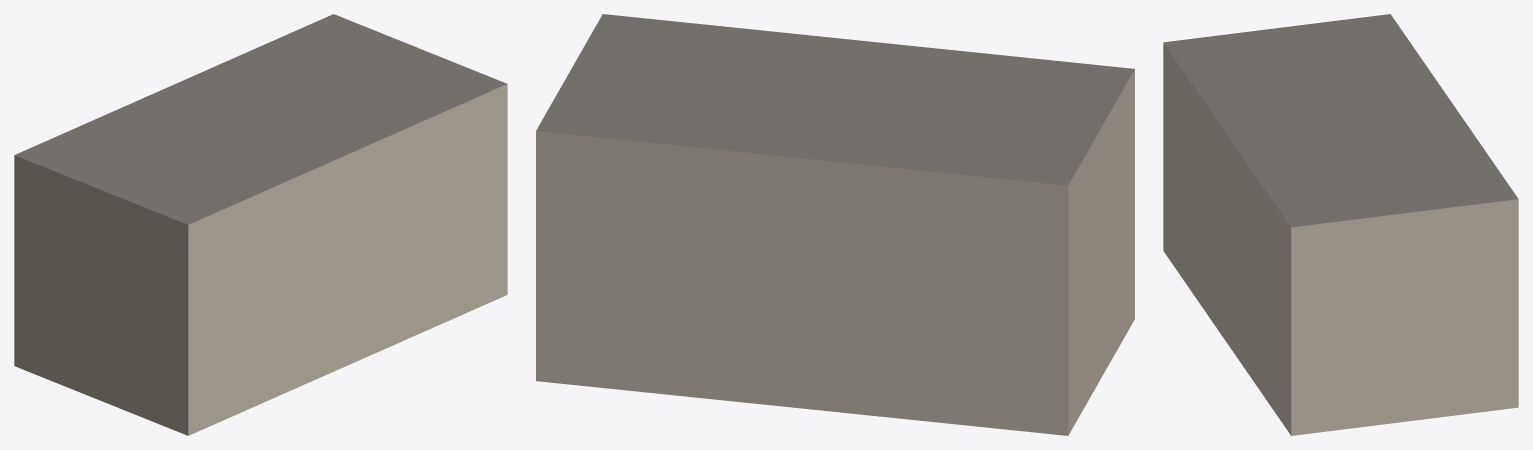
The picture shows the model from 3 angles, left to right: view 1: azimuth 30°, elevation 25°; view 2: azimuth 150°, elevation 25°; view 3: azimuth 270°, elevation 25°; orthographic projection. The views are drawn at different scales.
Parts seen in each view (by area): view 1: HP-w1287262155; view 2: HP-w1287262155; view 3: HP-w1287262155.
Boxes of the visible parts, x1,y1,x2,y2 form: HP-w1287262155: (14, 14, 507, 435); HP-w1287262155: (536, 14, 1134, 435); HP-w1287262155: (1163, 14, 1518, 435).
Bounding box in the file's own units: 39.53 × 18 × 27.81.
